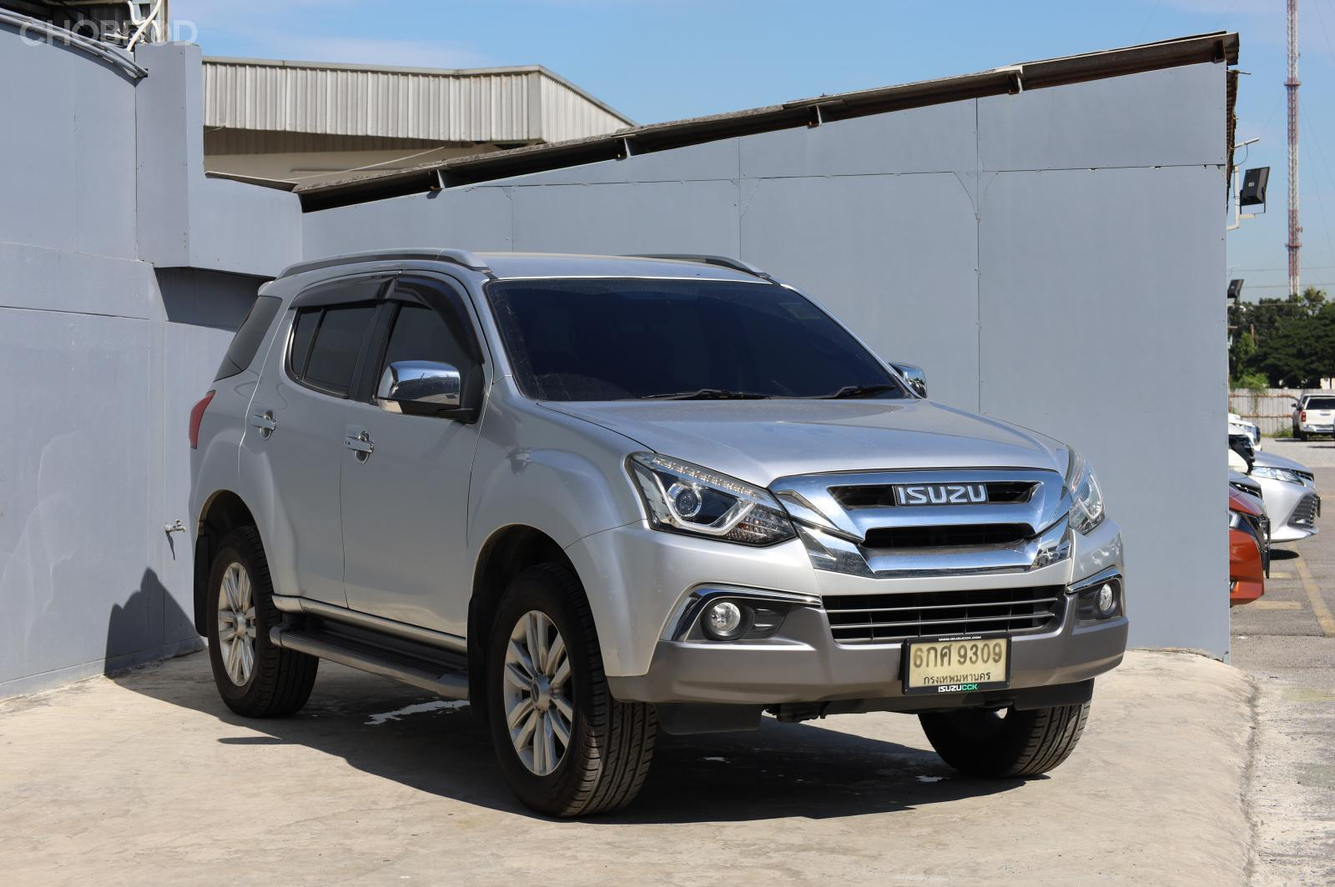license-plate: (899, 634, 1018, 695)
